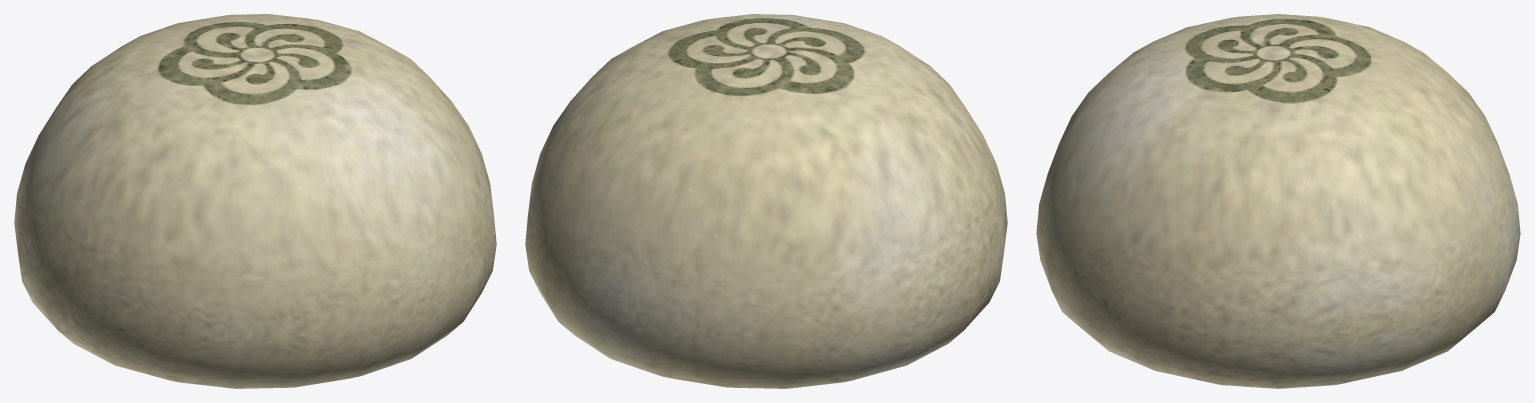
File: bun_F.fbx
The picture shows the model from 3 angles, left to right: view 1: azimuth 30°, elevation 25°; view 2: azimuth 150°, elevation 25°; view 3: azimuth 270°, elevation 25°; orthographic projection.
Parts seen in each view (by area): view 1: pSphere6; view 2: pSphere6; view 3: pSphere6.
Part boxes in pixels (bbox=[...]): pSphere6: bbox=[14, 14, 496, 388]; pSphere6: bbox=[525, 14, 1007, 388]; pSphere6: bbox=[1036, 14, 1520, 388].
Bounding box in the file's own units: 4.03 × 2.47 × 4.03.
Materials: 1 (1 with a texture image).
